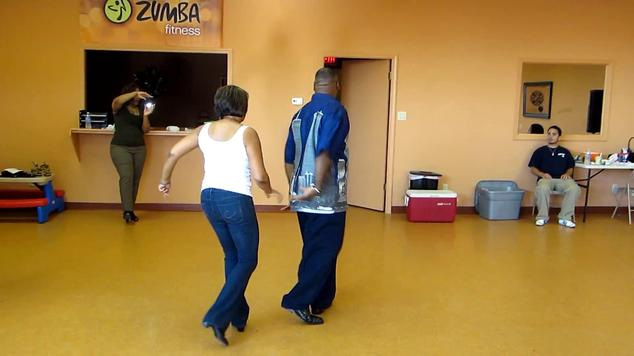crouch: (289, 57, 352, 242)
stay: (97, 83, 168, 221)
walk: (521, 115, 585, 237)
